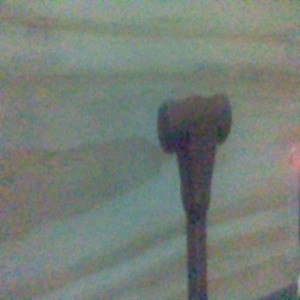palu: (155, 89, 233, 300)
